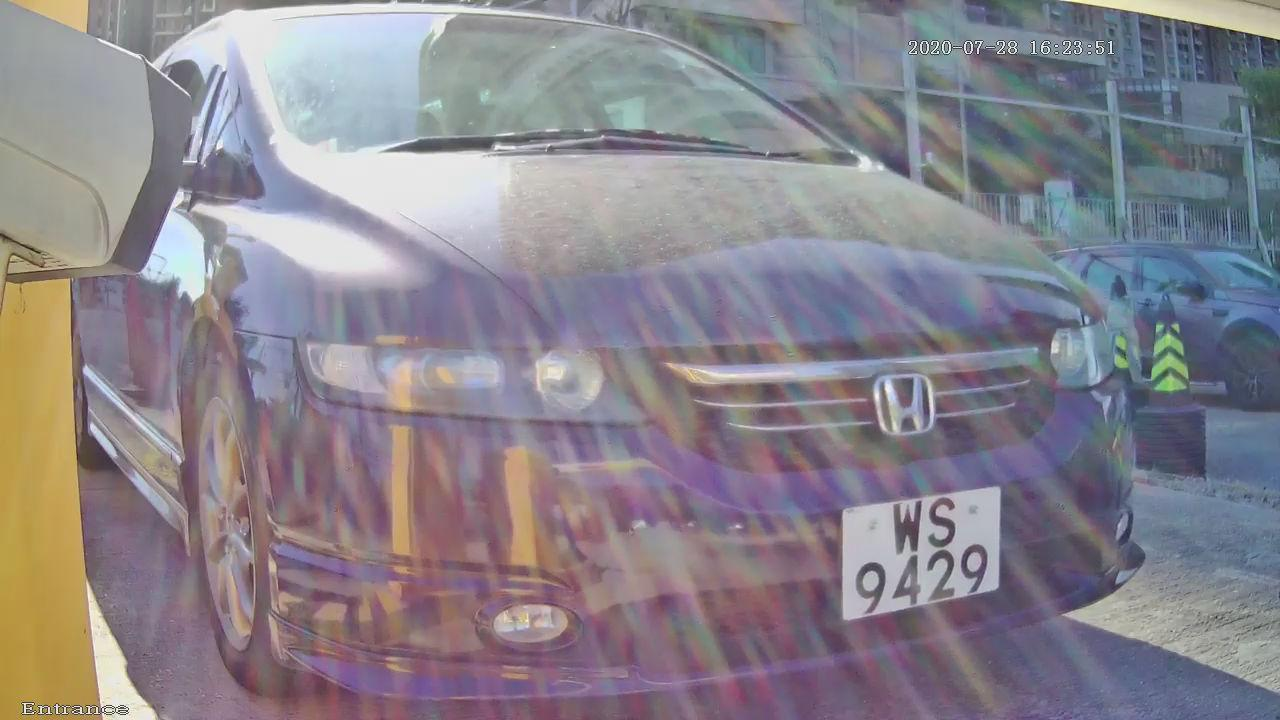privatecar: (29, 13, 1275, 704)
